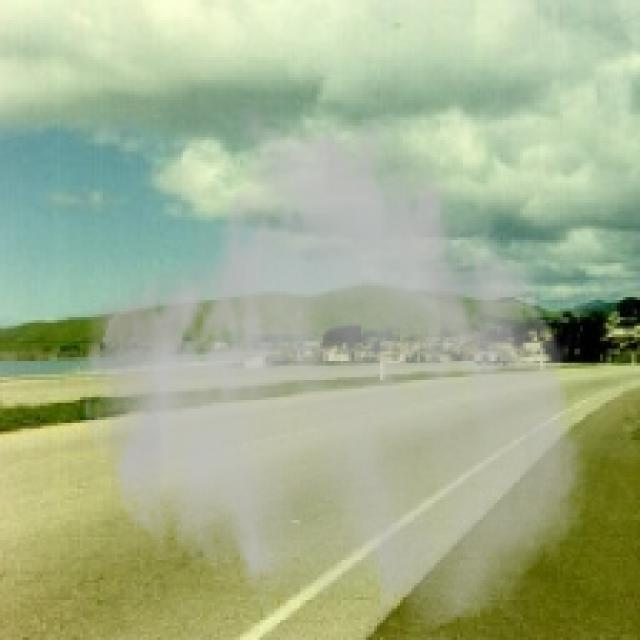Smoke: (77, 97, 592, 632)
